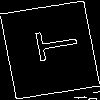T: (25, 25, 80, 65)
